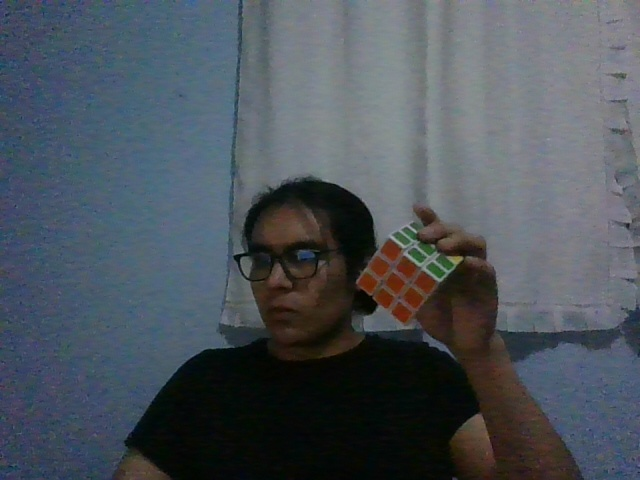rubik: (355, 220, 463, 326)
